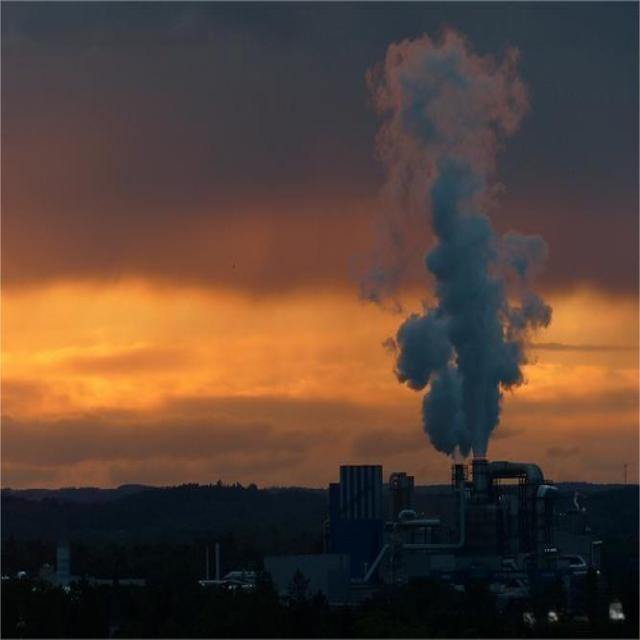Smoke: (361, 28, 554, 459)
